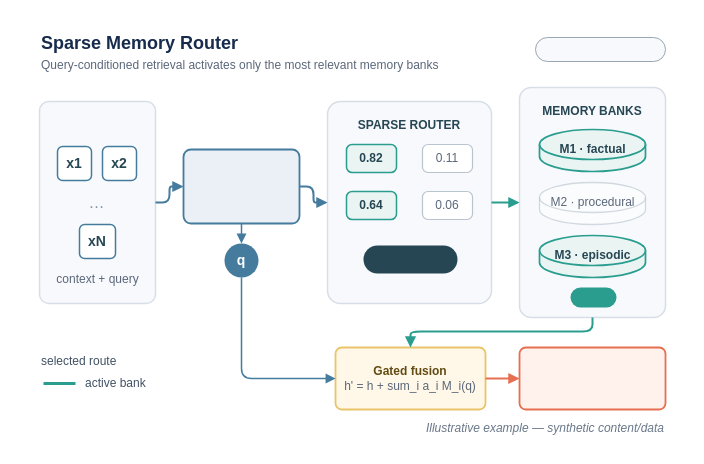
Some shapes in this 704 by 464 pixel diagram are drawn without their labels. Here are the shapes that lost their labels. From the top down, the box of each, then its label:
(534, 36, 666, 62): SYNTHETIC DEMO
(38, 100, 156, 304): INPUT SEQUENCE
(182, 148, 300, 224): Query encoder shared representation h
(363, 245, 457, 273): Top-2 routes
(570, 287, 616, 307): active
(518, 346, 666, 410): Task head prediction + trace
